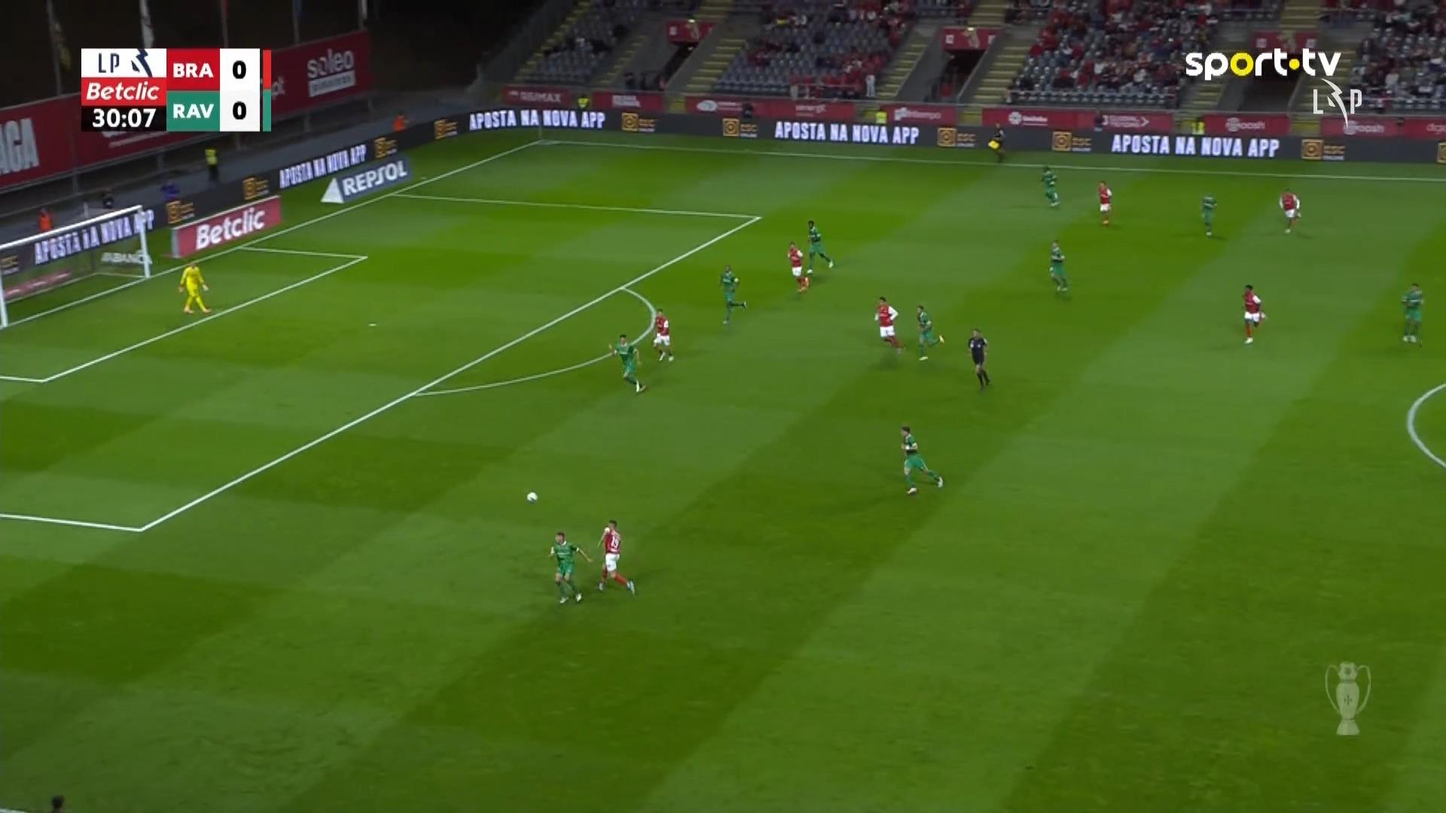ball: (526, 492, 537, 503)
goalkeeper: (176, 260, 212, 314)
player: (548, 531, 592, 604), (899, 424, 944, 495), (596, 519, 636, 595), (608, 333, 647, 394), (873, 295, 904, 354), (915, 303, 944, 361), (718, 264, 746, 324), (805, 218, 834, 273), (1400, 282, 1424, 346), (1241, 284, 1266, 343), (651, 307, 674, 362), (786, 240, 809, 293), (1048, 239, 1068, 292), (1278, 187, 1301, 233), (1040, 164, 1060, 208), (1200, 193, 1217, 236), (1097, 180, 1112, 225)
referee: (966, 327, 990, 390), (988, 121, 1006, 163)
